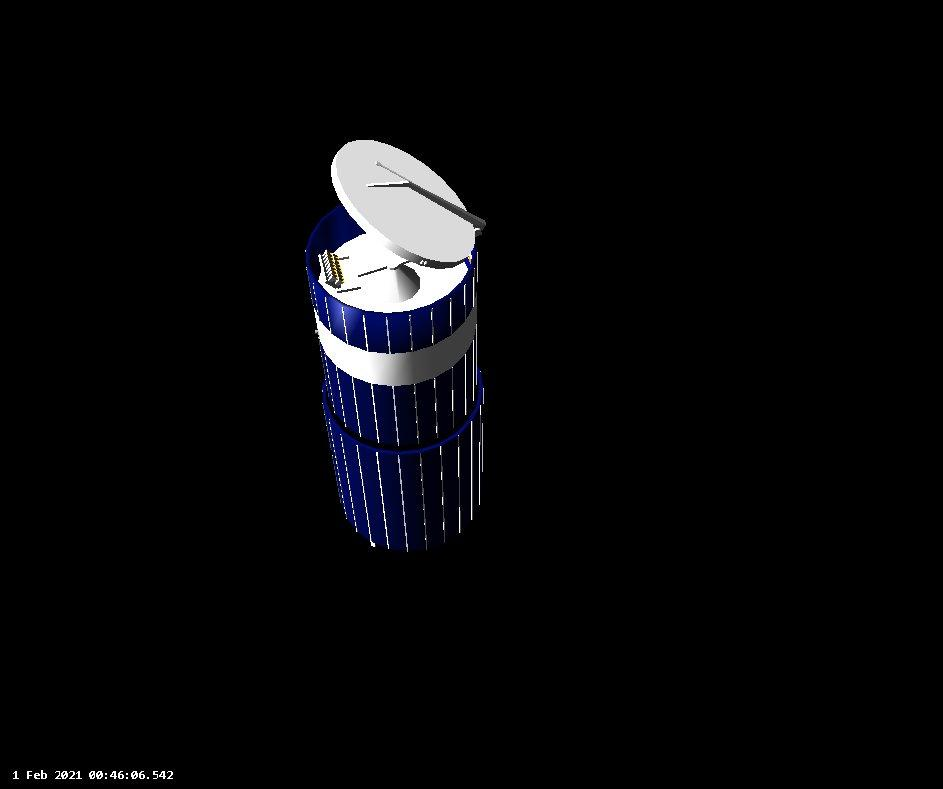antenna: (329, 137, 477, 270)
body: (303, 203, 497, 556)
